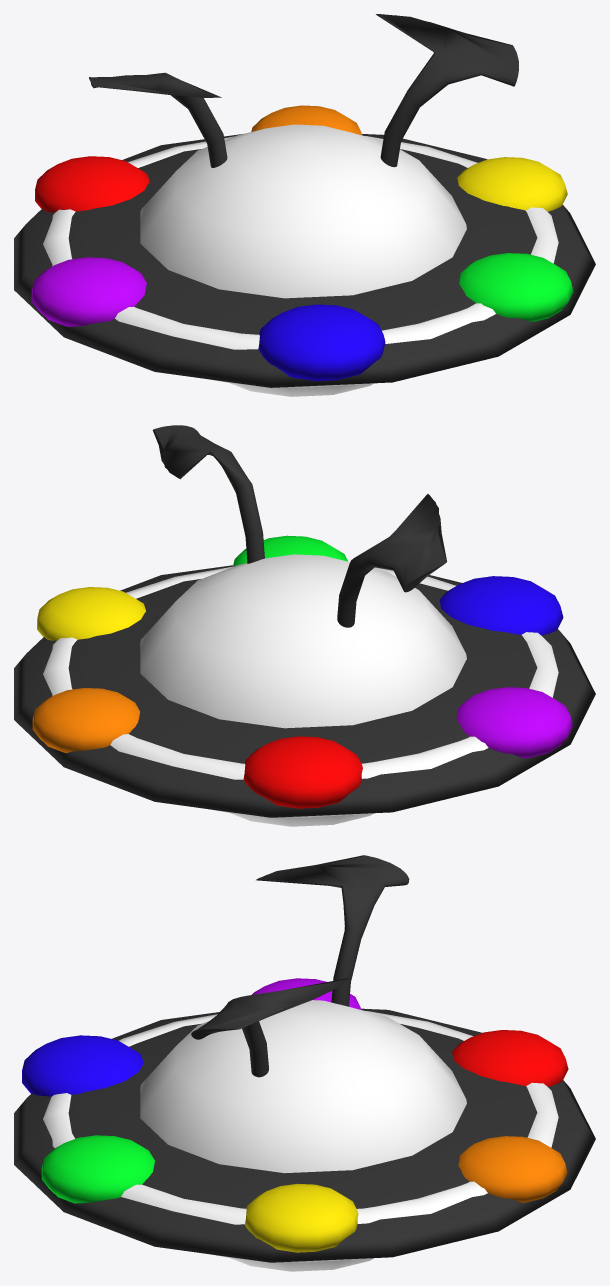
The model's file is wtf.FBX.
The picture shows the model from 3 angles, top to bottom: view 1: azimuth 30°, elevation 25°; view 2: azimuth 150°, elevation 25°; view 3: azimuth 270°, elevation 25°; orthographic projection.
Parts seen in each view (by area): view 1: Sphere02, Sphere01, Torus01, Sphere08, Cylinder02, Sphere04, Sphere05, Sphere07, Sphere03, Cylinder01, Sphere06; view 2: Sphere02, Sphere01, Torus01, Sphere07, Sphere04, Cylinder01, Sphere08, Sphere06, Sphere03, Cylinder02, Sphere05; view 3: Sphere01, Sphere02, Torus01, Sphere03, Sphere05, Cylinder01, Sphere08, Sphere06, Sphere07, Cylinder02, Sphere04.
Boxes of the visible parts, <box> form: Sphere02: <box>140,124,466,396</box>; Sphere01: <box>14,134,595,387</box>; Torus01: <box>43,136,558,387</box>; Sphere08: <box>258,304,385,381</box>; Cylinder02: <box>376,14,518,167</box>; Sphere04: <box>31,257,146,326</box>; Sphere05: <box>459,253,573,321</box>; Sphere07: <box>35,156,149,212</box>; Sphere03: <box>457,157,567,211</box>; Cylinder01: <box>89,72,227,167</box>; Sphere06: <box>251,105,361,135</box>; Sphere02: <box>140,554,466,826</box>; Sphere01: <box>14,565,595,817</box>; Torus01: <box>43,566,558,817</box>; Sphere07: <box>243,736,362,808</box>; Sphere04: <box>456,687,572,758</box>; Cylinder01: <box>337,493,446,627</box>; Sphere08: <box>439,576,563,635</box>; Sphere06: <box>32,688,139,752</box>; Sphere03: <box>37,587,145,640</box>; Cylinder02: <box>152,425,264,563</box>; Sphere05: <box>233,535,347,566</box>; Sphere01: <box>14,1008,595,1262</box>; Sphere02: <box>140,1000,466,1271</box>; Torus01: <box>43,1011,558,1262</box>; Sphere03: <box>245,1183,358,1252</box>; Sphere05: <box>41,1135,154,1203</box>; Cylinder01: <box>256,855,409,1006</box>; Sphere08: <box>22,1035,143,1096</box>; Sphere06: <box>458,1136,567,1202</box>; Sphere07: <box>452,1030,568,1086</box>; Cylinder02: <box>191,978,349,1077</box>; Sphere04: <box>252,978,360,1009</box>.
Size of the model in its own units: 64.03 by 37.68 by 61.96.
